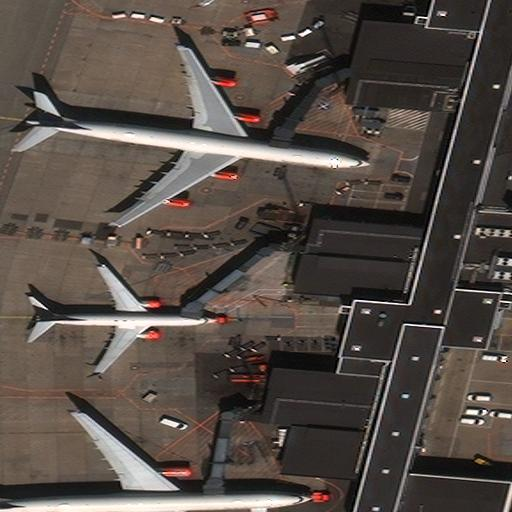Large Civil Transport: (21, 48, 371, 228), (0, 412, 316, 512)
Medium Civil Transport: (28, 263, 225, 375)
